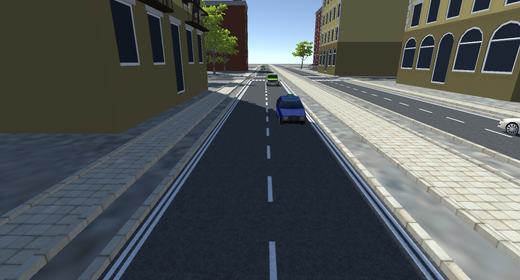centerstrip: (357, 89, 520, 141), (262, 81, 282, 279)
sidestripe: (100, 92, 246, 278), (303, 112, 444, 279)
